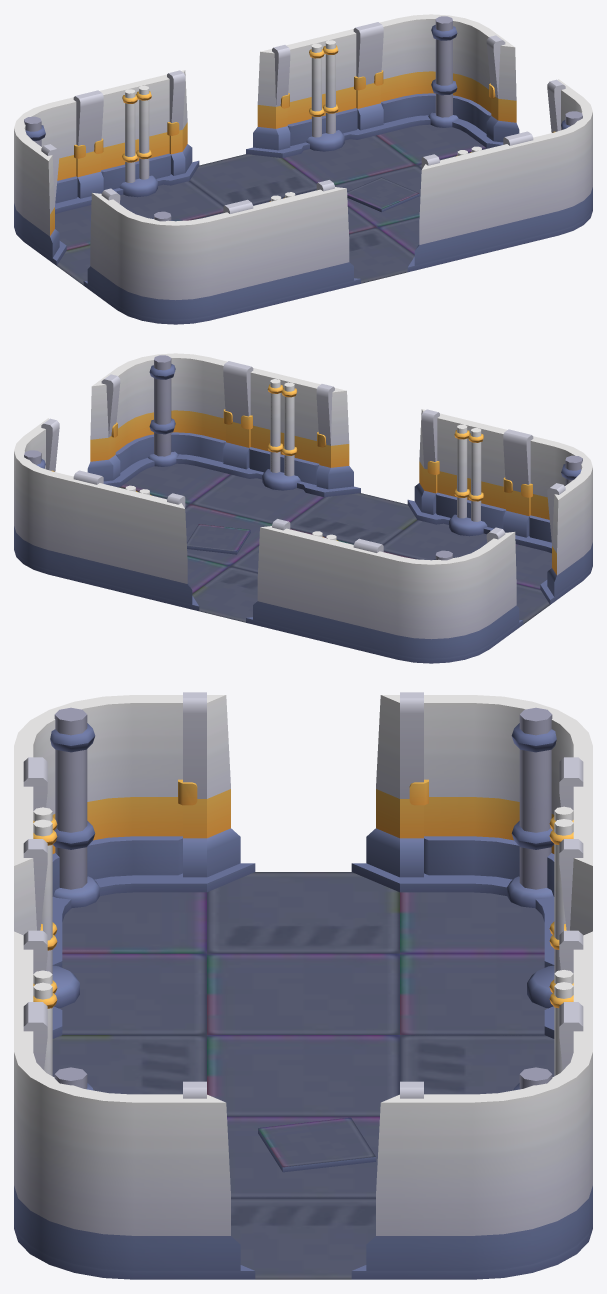
Rendered from room-wide.glb.
3 renders of one model, top to bottom at view 1: azimuth 30°, elevation 25°; view 2: azimuth 150°, elevation 25°; view 3: azimuth 270°, elevation 25°, orthographic. The views are drawn at different scales.
Parts seen in each view (by area): view 1: room-wide; view 2: room-wide; view 3: room-wide.
Part boxes in pixels (bbox=[...]): room-wide: bbox=[14, 14, 592, 324]; room-wide: bbox=[14, 353, 592, 663]; room-wide: bbox=[14, 692, 592, 1279].
Bounding box in the file's own units: 20 × 4.25 × 12.
1 material, 1 textured.
